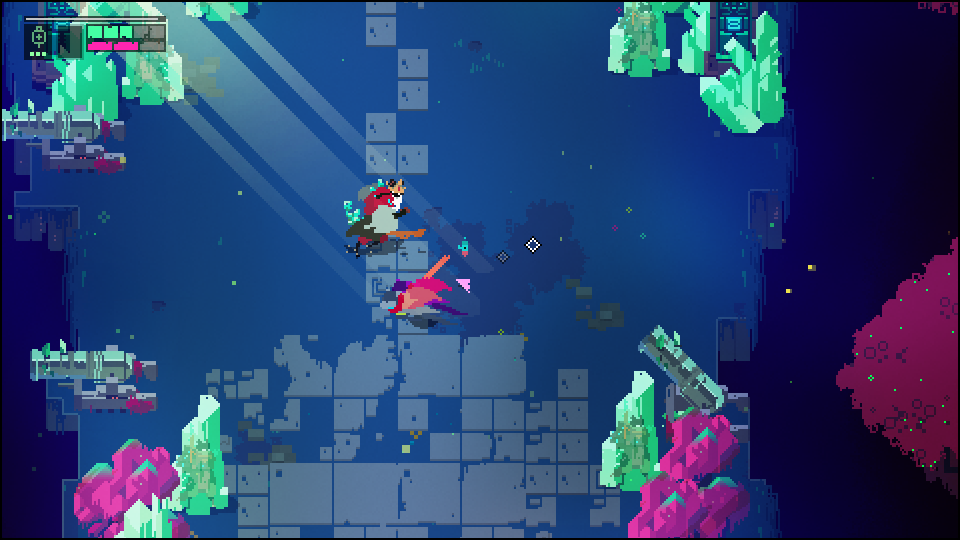hanged_man: (344, 177, 428, 257)
player: (379, 285, 447, 330)
